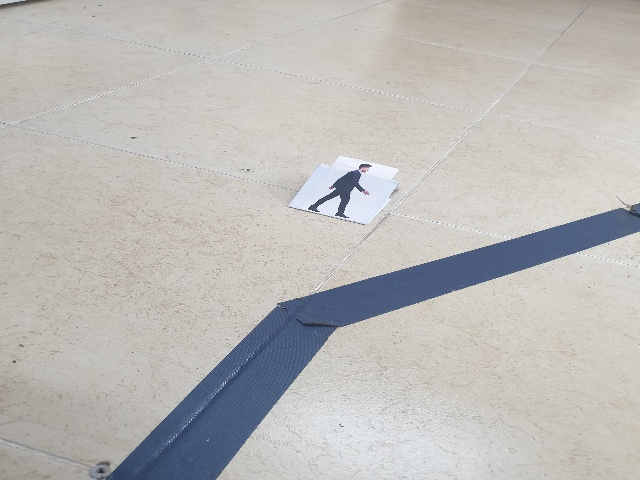Person: (309, 160, 376, 221)
